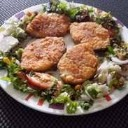seerfish: (14, 37, 64, 70), (61, 44, 97, 83), (69, 22, 113, 49), (29, 13, 71, 39)
